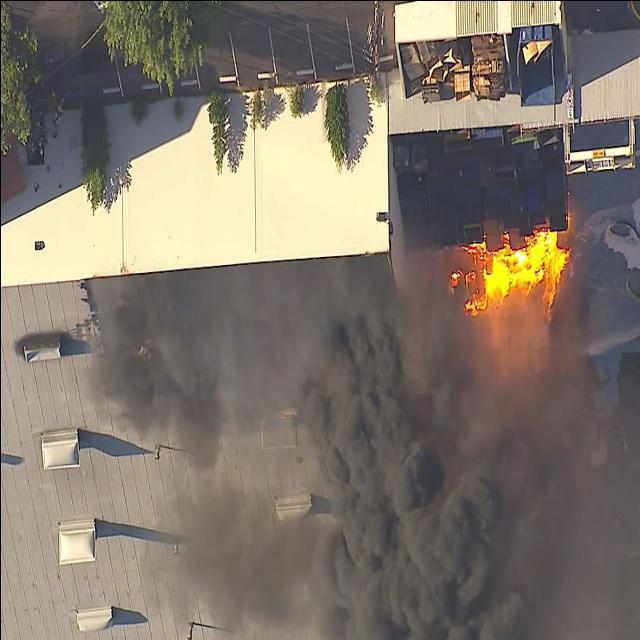Fire: (442, 238, 579, 326)
